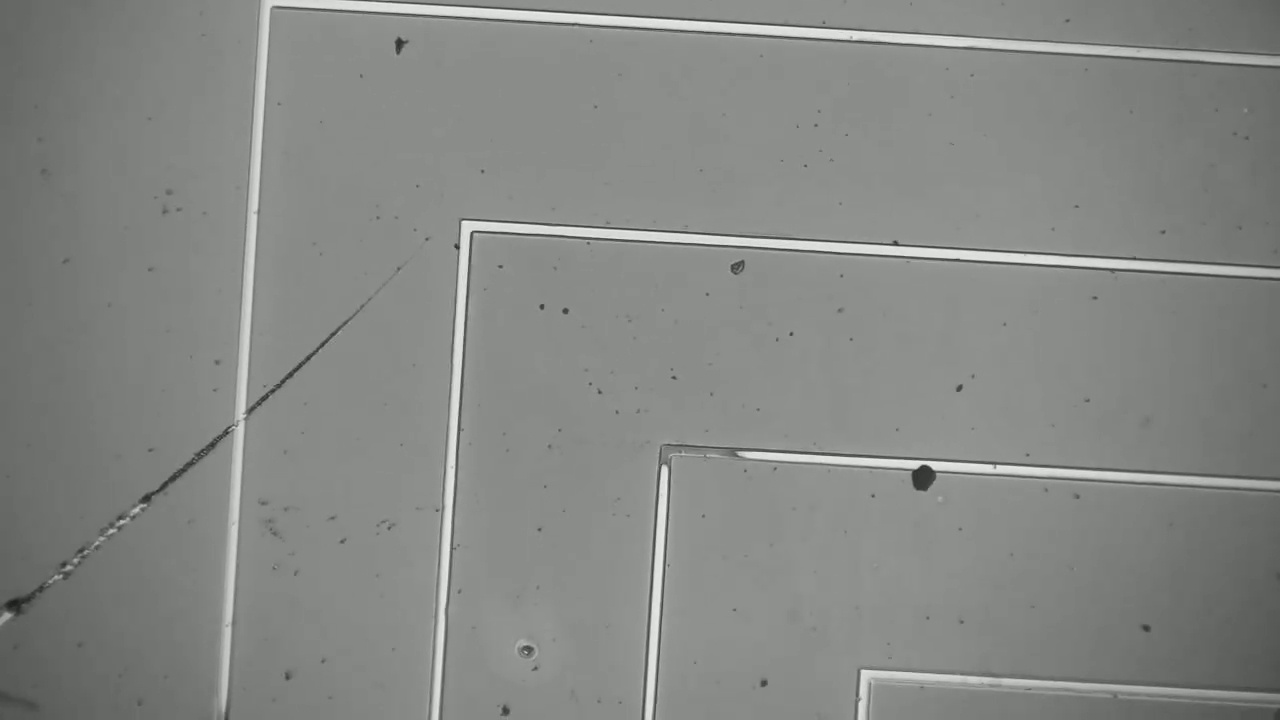gray_line: (655, 440, 790, 466), (645, 426, 688, 486)
scratch: (1, 263, 415, 625)
stains_enbedded: (901, 447, 956, 507)
